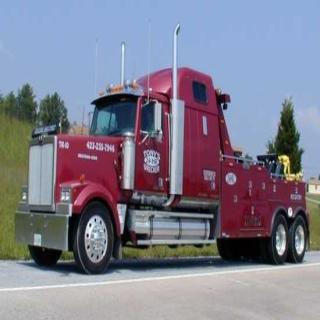Towing_truck: (13, 22, 310, 276)
